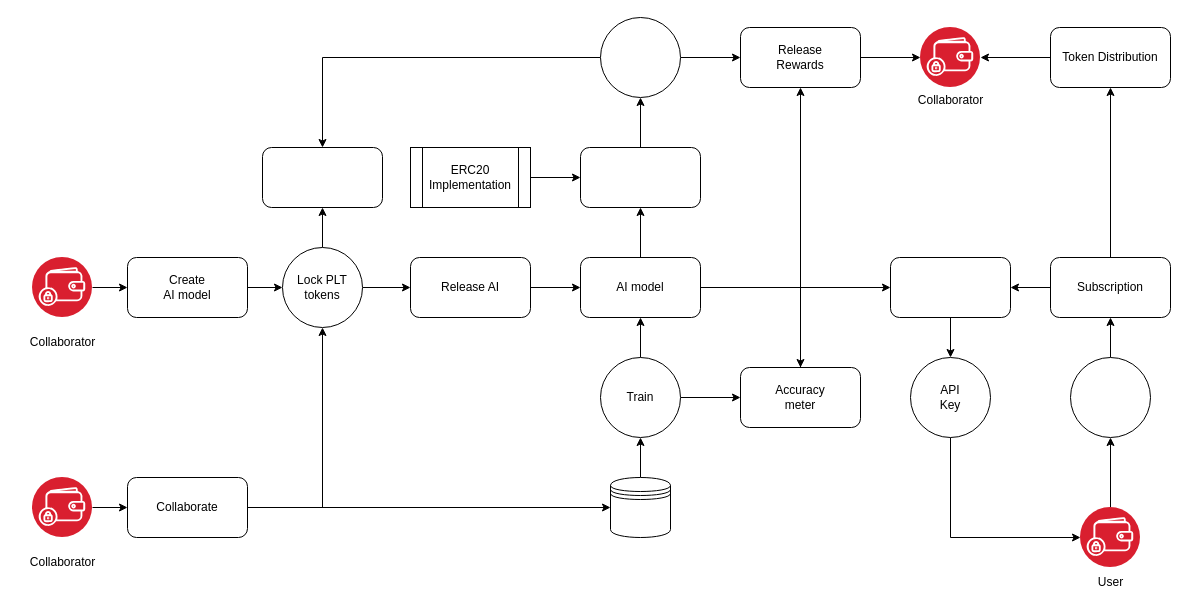
The diagram is 1188 pixels wide and 615 high, and some of its shapes have lost their labels. The shapes that lost their labels are listed below. From the top down, each one's centre as x and y in pixels, then its label:
At (x=640, y=57): "Deploy model Tokens".
At (x=322, y=177): "IDO".
At (x=640, y=177): "Factory".
At (x=950, y=287): "API".
At (x=1110, y=397): "Send Model tokens".
At (x=640, y=507): "Data set".
